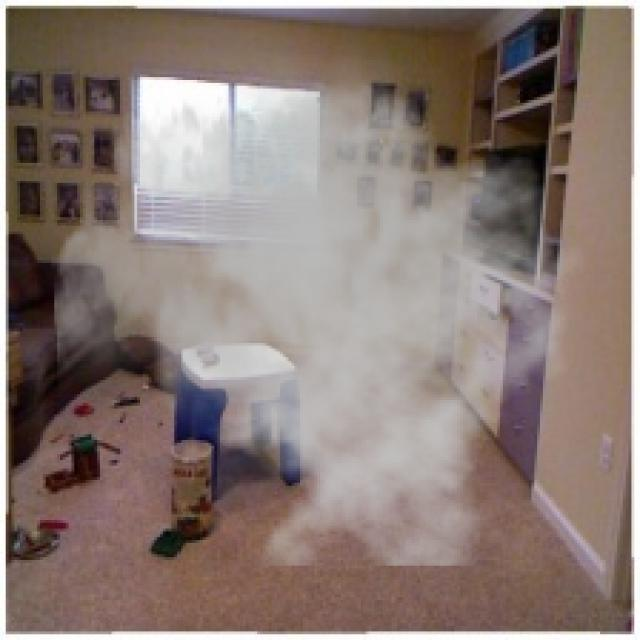Smoke: (51, 31, 588, 566)
